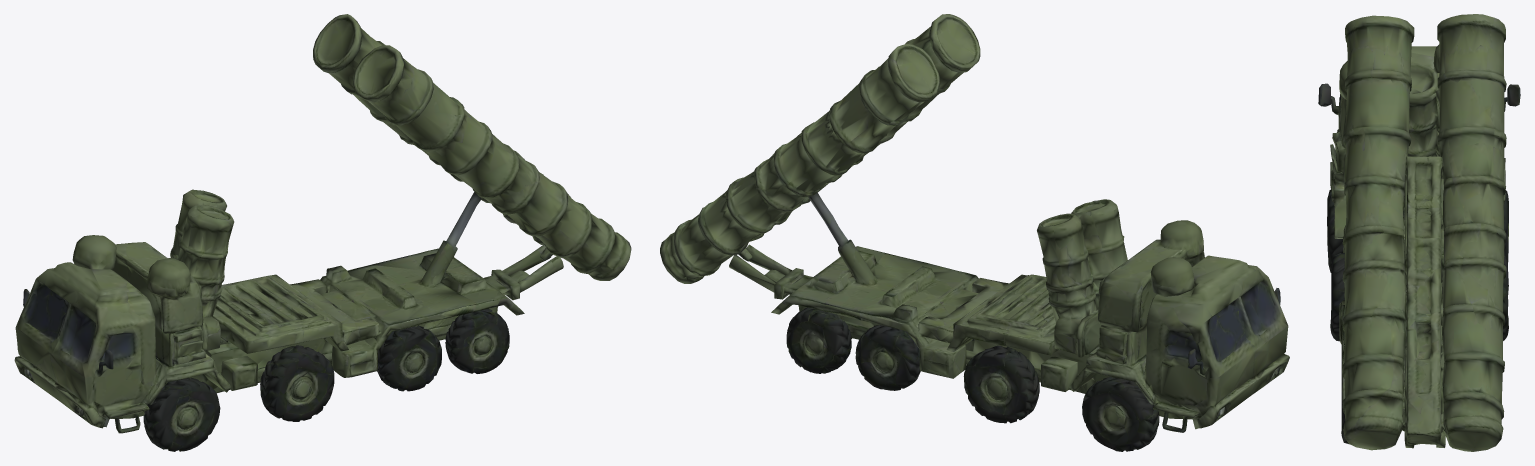
The picture shows the model from 3 angles, left to right: view 1: azimuth 30°, elevation 25°; view 2: azimuth 150°, elevation 25°; view 3: azimuth 270°, elevation 25°; orthographic projection. The views are drawn at different scales.
Size of the model in its own units: 1.9 by 1.1 by 0.52.
1 material, 1 textured.
